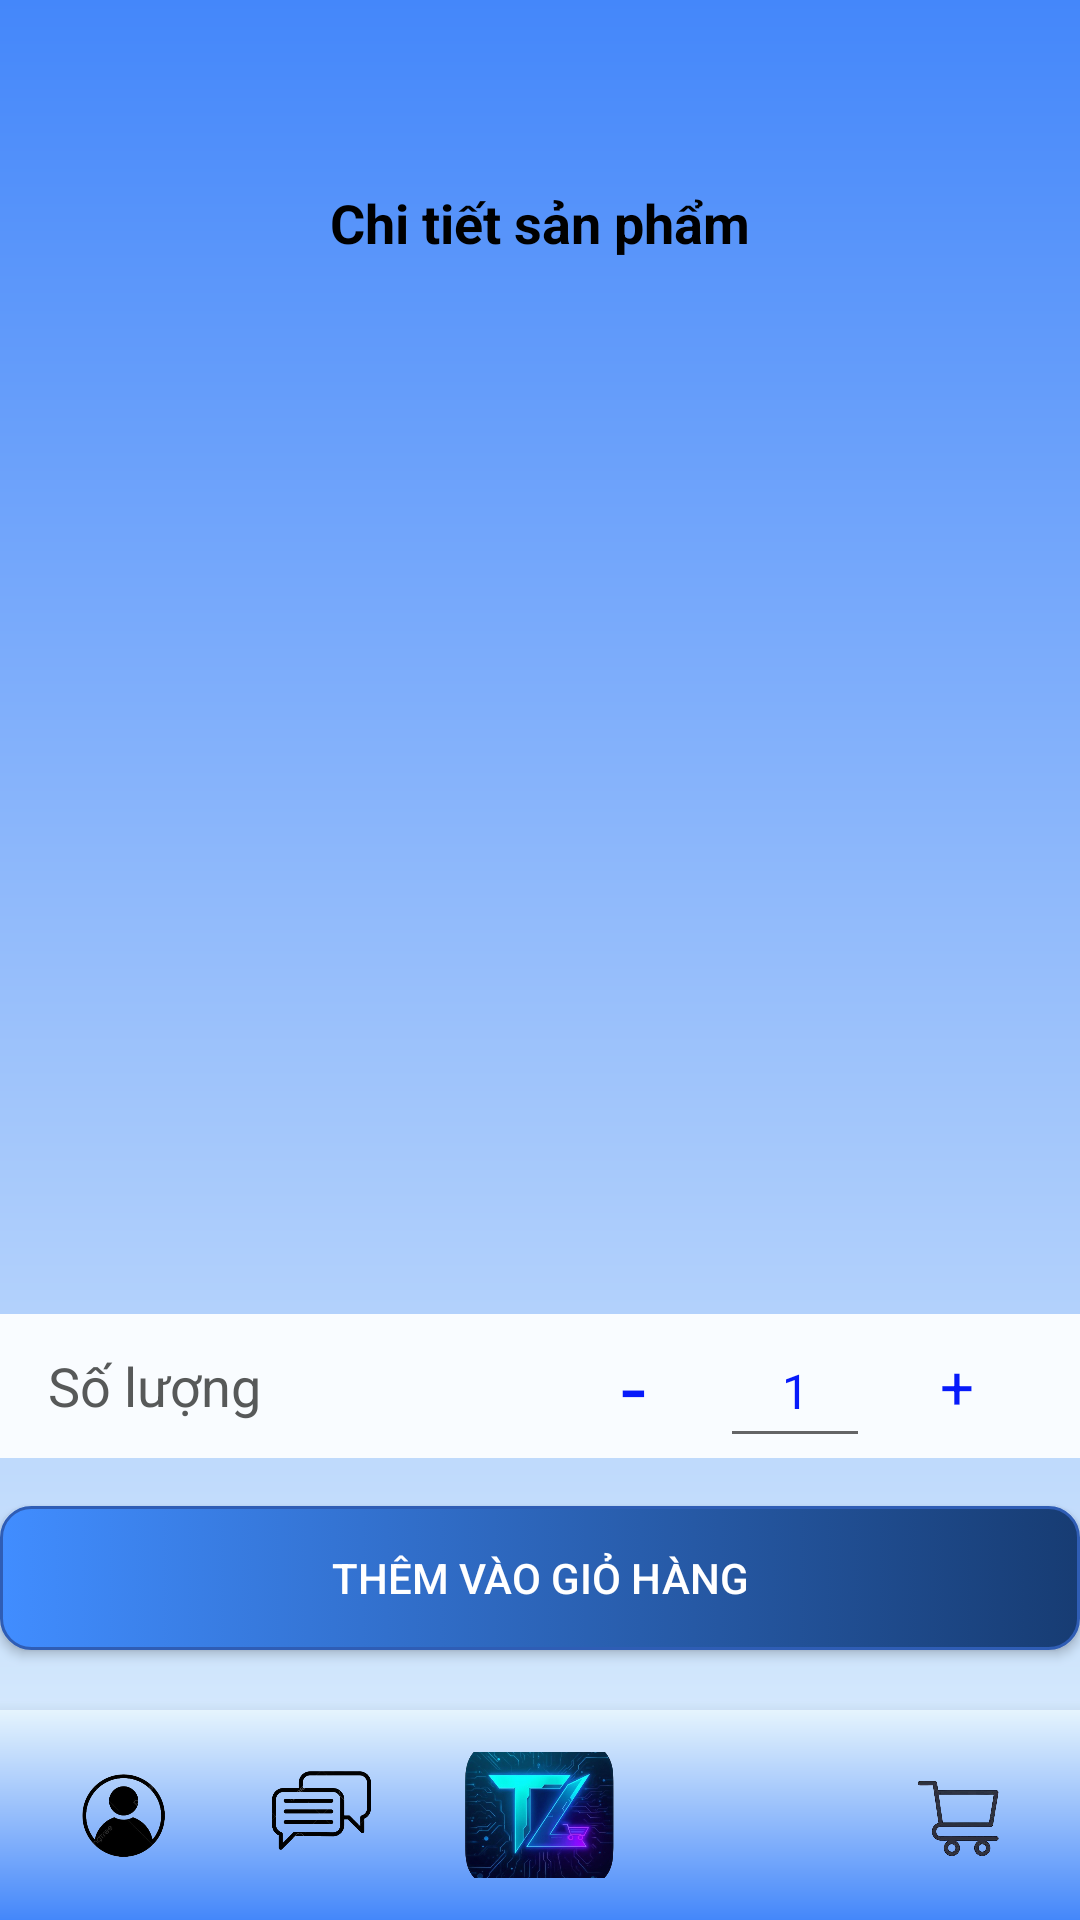

Where to tap for icons on this 1080px×1920px app screen, as point (x, y):
cart: point (956, 1815)
chat: point (321, 1815)
